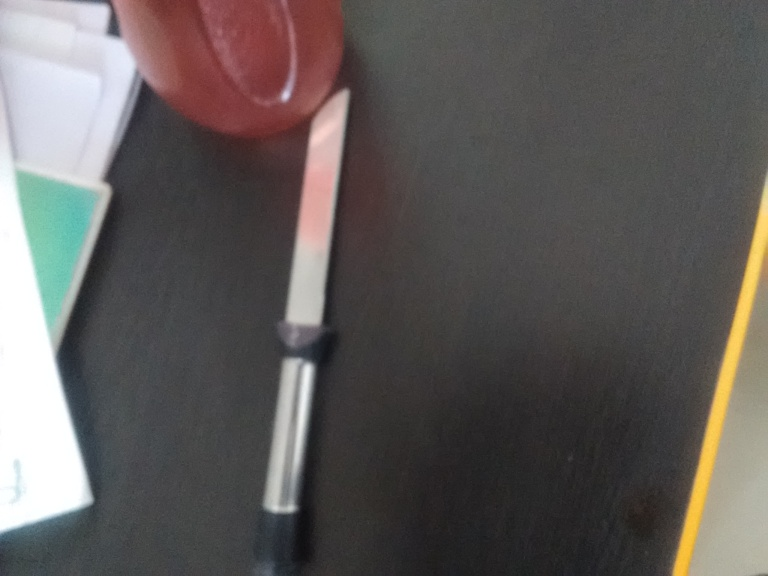knife: (249, 90, 354, 576)
